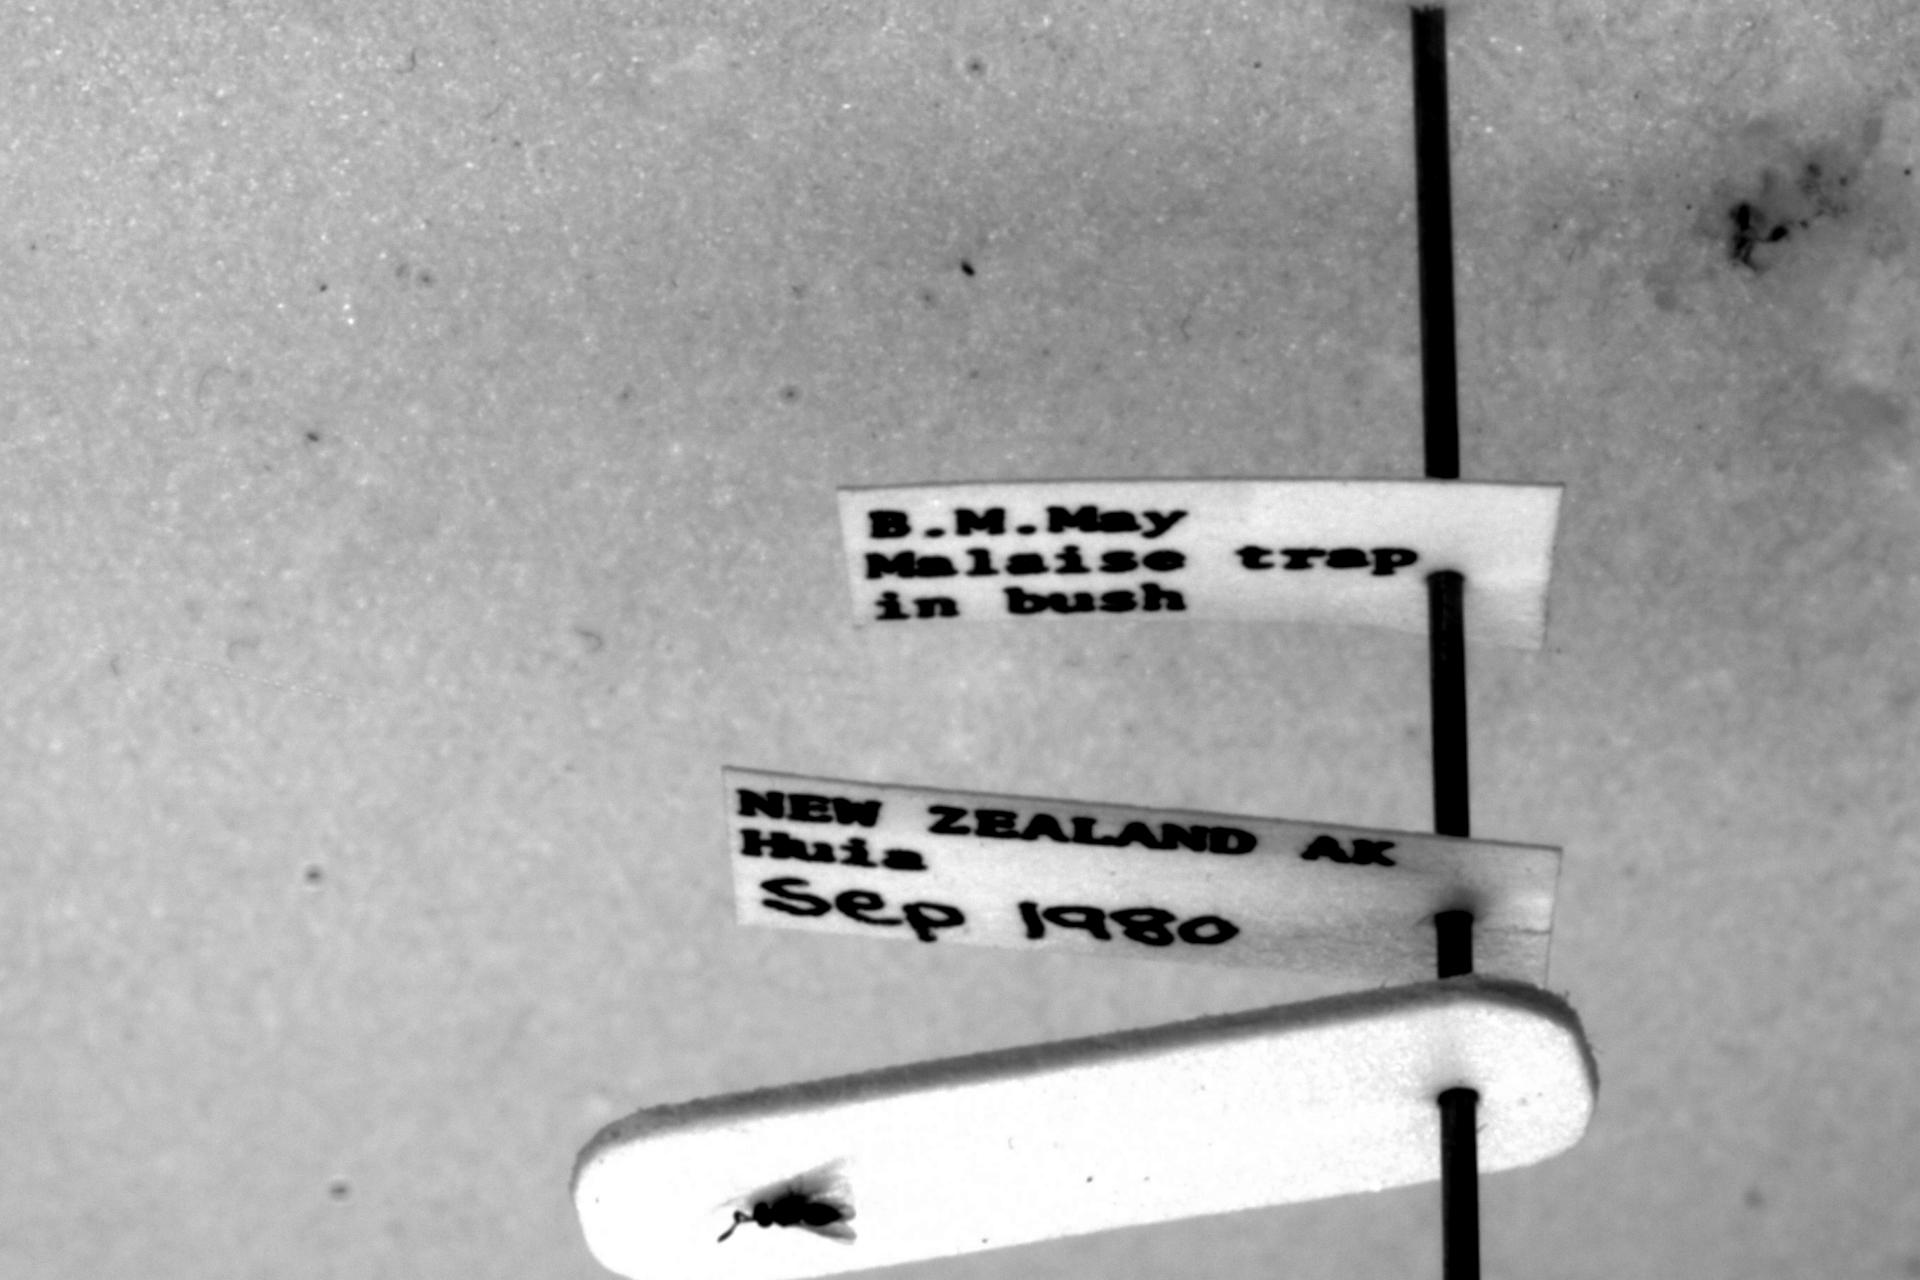mixed_label: (724, 769, 1560, 986)
typed_label: (836, 480, 1564, 649)
